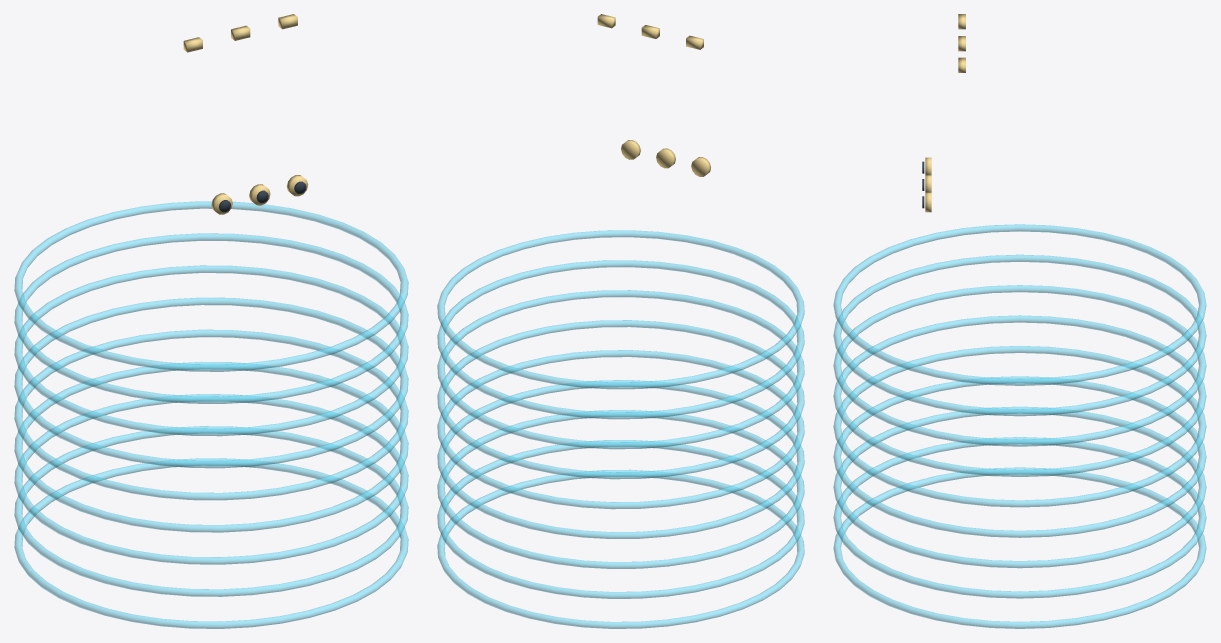
The model's file is 33_L93_CTProjectionHologram.glb.
The picture shows the model from 3 angles, left to right: view 1: azimuth 30°, elevation 25°; view 2: azimuth 150°, elevation 25°; view 3: azimuth 270°, elevation 25°; orthographic projection. The views are drawn at different scales.
Parts seen in each view (by area): view 1: L92_CTProjectionHologram_Part_0000, L92_CTProjectionHologram_Part_0001; view 2: L92_CTProjectionHologram_Part_0000, L92_CTProjectionHologram_Part_0001; view 3: L92_CTProjectionHologram_Part_0000.
Boxes of the visible parts, x1=… form: L92_CTProjectionHologram_Part_0000: x1=14, y1=201, x2=408, y2=628; L92_CTProjectionHologram_Part_0001: x1=183, y1=14, x2=297, y2=52; L92_CTProjectionHologram_Part_0000: x1=437, y1=230, x2=804, y2=628; L92_CTProjectionHologram_Part_0001: x1=597, y1=14, x2=703, y2=49; L92_CTProjectionHologram_Part_0000: x1=833, y1=224, x2=1206, y2=628.
Size of the model in its own units: 2.45 by 3.7 by 2.45.
